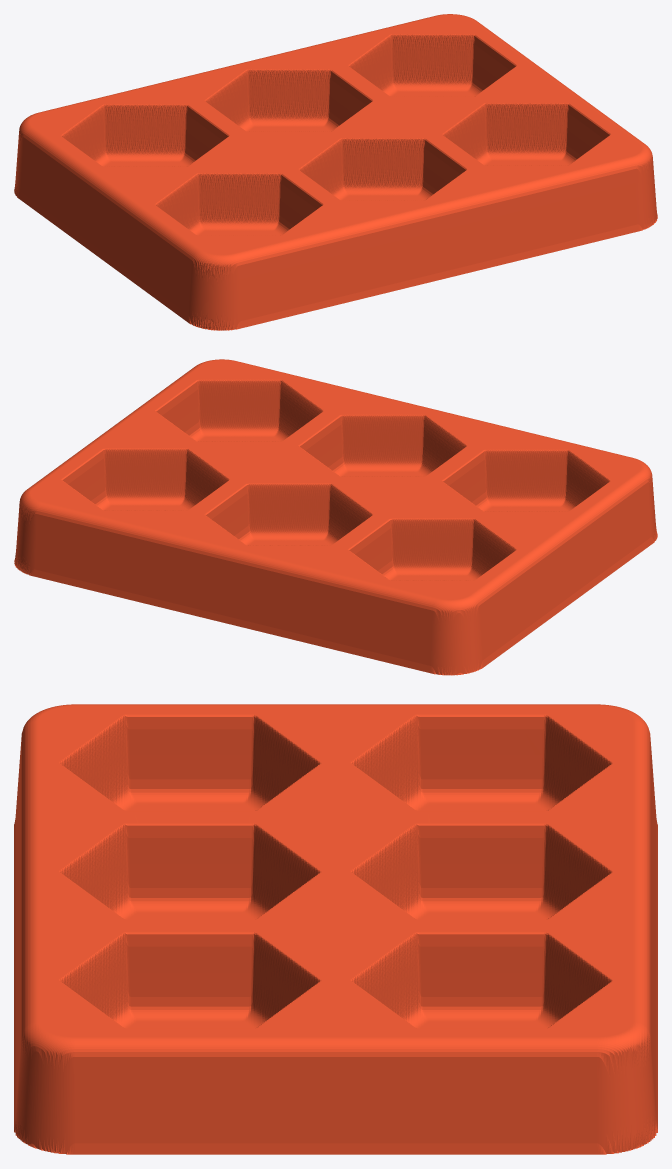
The model's file is mold.glb.
3 views of the same model, one above another, from view 1: azimuth 30°, elevation 25°; view 2: azimuth 150°, elevation 25°; view 3: azimuth 270°, elevation 25° (orthographic). The views are drawn at different scales.
Visible parts, largest first — view 1: geometry_0; view 2: geometry_0; view 3: geometry_0.
Boxes of the visible parts, left/top/right/bottom form: geometry_0: left=14, top=14, right=657, bottom=330; geometry_0: left=14, top=359, right=657, bottom=675; geometry_0: left=14, top=704, right=657, bottom=1154.
Size of the model in its own units: 0.1234 by 0.0175 by 0.0955.
